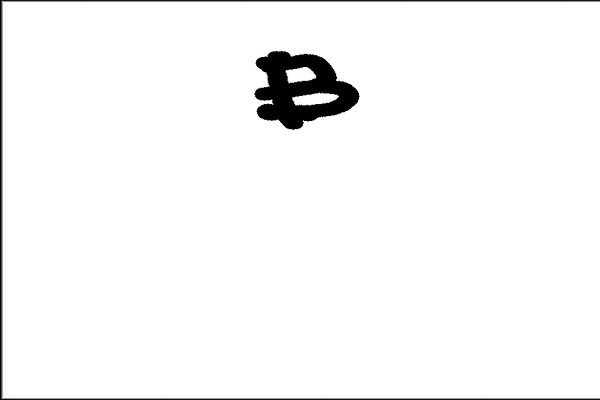B: (244, 43, 366, 143)
